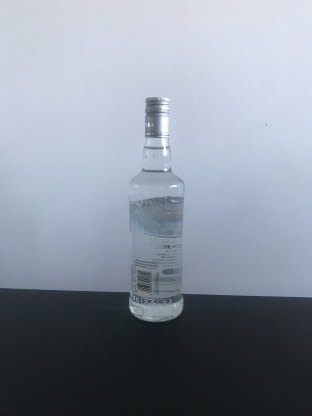nakretka: (143, 94, 172, 141)
